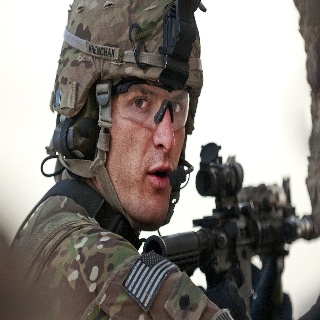rifle: (141, 141, 316, 305)
